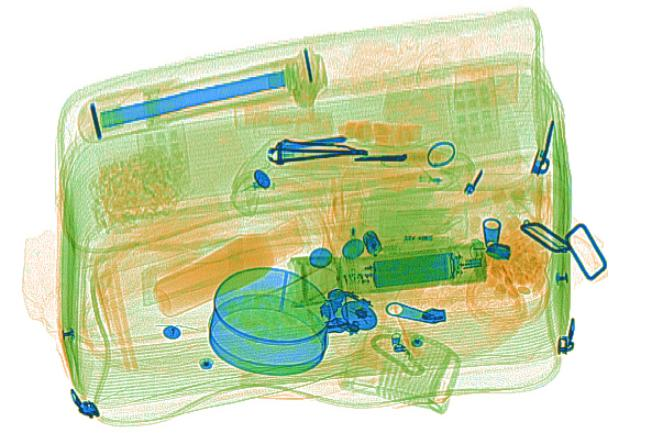battery: (369, 251, 456, 289), (360, 230, 382, 259)
